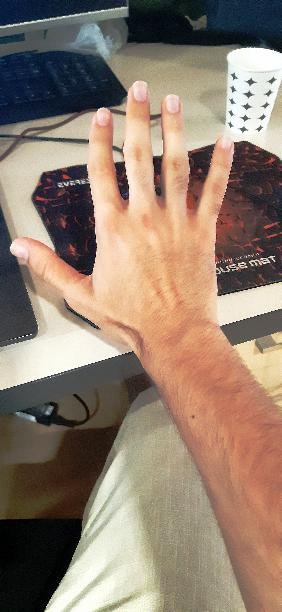Paper: (10, 77, 238, 331)
